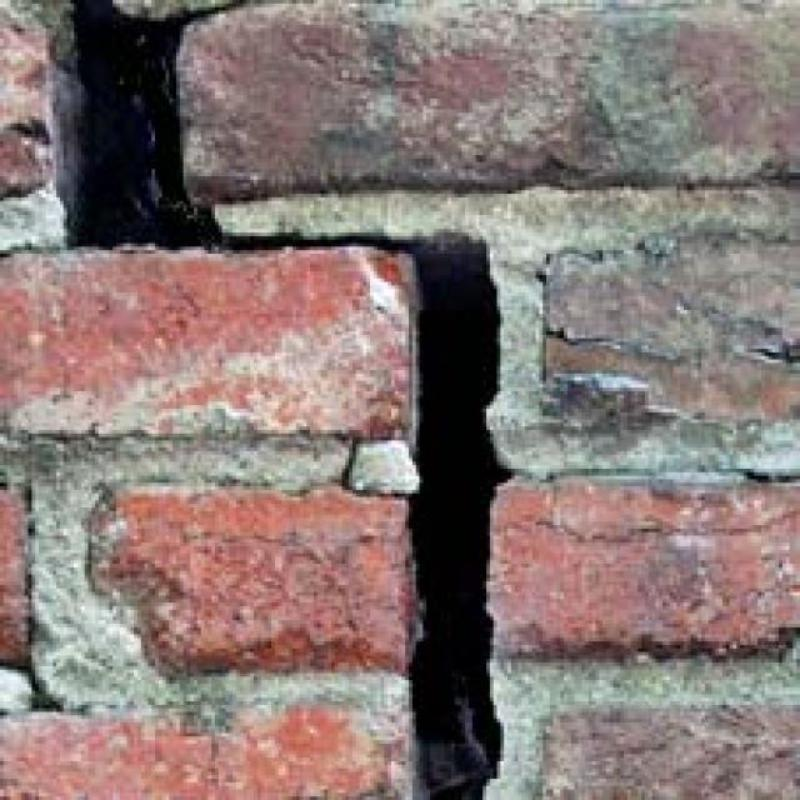pothole: (61, 0, 508, 800), (538, 231, 800, 430), (6, 666, 62, 711)
